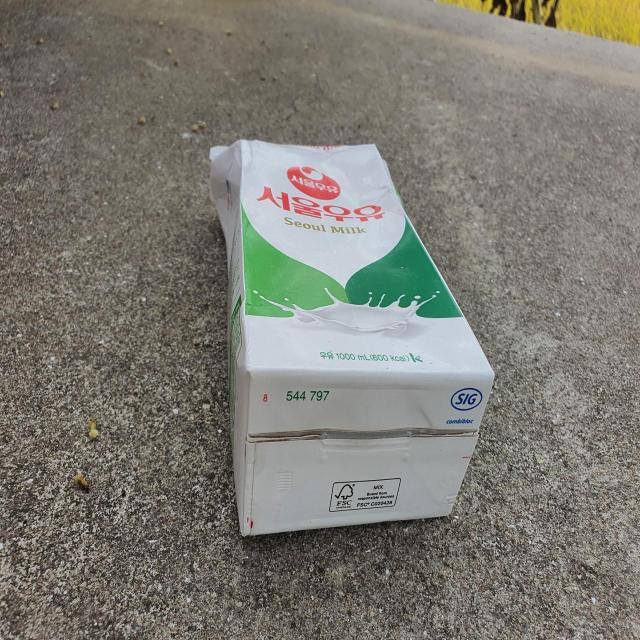paperpack: (210, 139, 495, 536)
